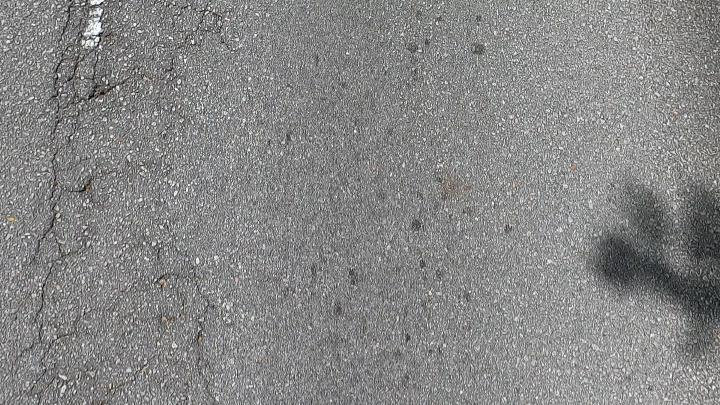Crack: (18, 0, 137, 326), (22, 0, 137, 323)
